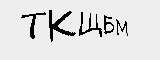Б: (103, 15, 114, 34)
К: (49, 9, 76, 41)
М: (115, 18, 130, 38)
Т: (22, 11, 44, 43)
Щ: (78, 12, 103, 38)
